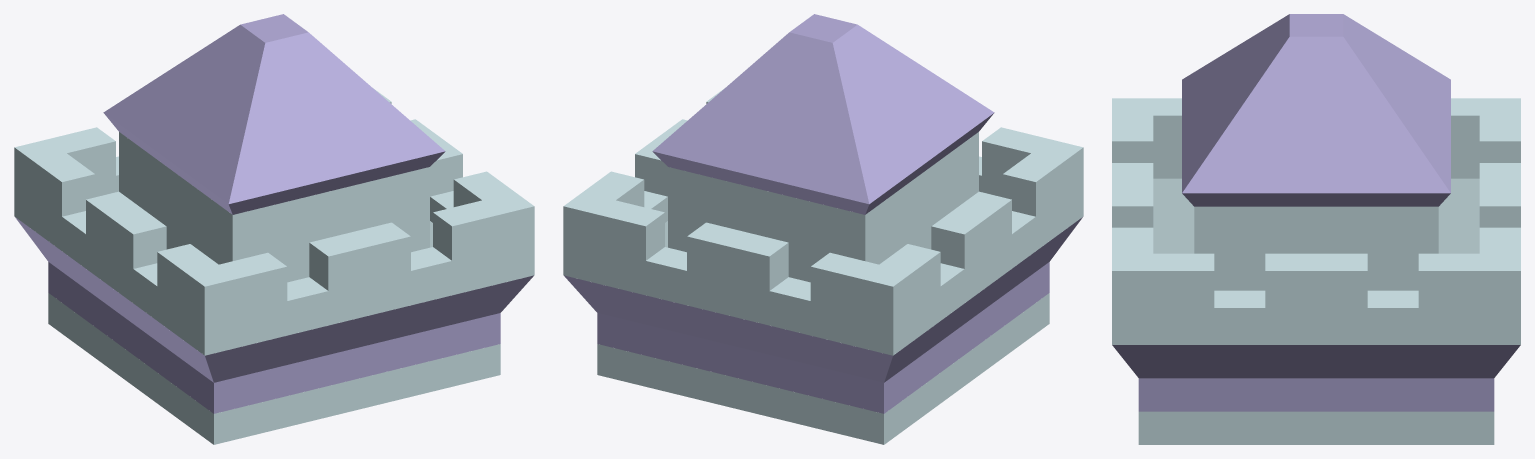
File: towerSquare_roofA.glb
3 renders of one model, left to right at view 1: azimuth 30°, elevation 25°; view 2: azimuth 150°, elevation 25°; view 3: azimuth 270°, elevation 25°, orthographic. The views are drawn at different scales.
Visible parts, largest first — view 1: towerSquare_roofA; view 2: towerSquare_roofA; view 3: towerSquare_roofA.
Part boxes in pixels (x1,y1,x2,y2): towerSquare_roofA: [14, 14, 534, 444]; towerSquare_roofA: [563, 14, 1083, 444]; towerSquare_roofA: [1112, 14, 1520, 444].
Size of the model in its own units: 1 by 0.93 by 1.
